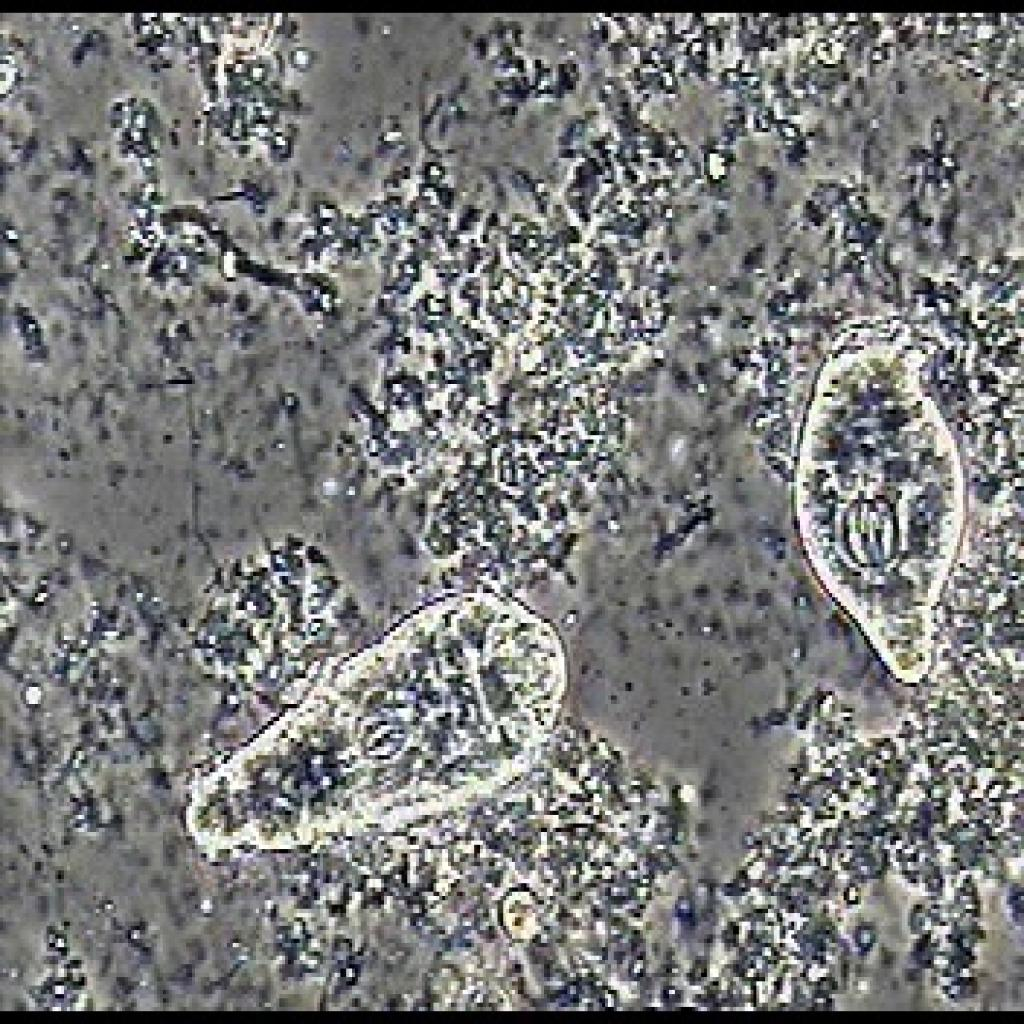Rotatoria: (141, 570, 589, 860), (770, 275, 968, 728)
